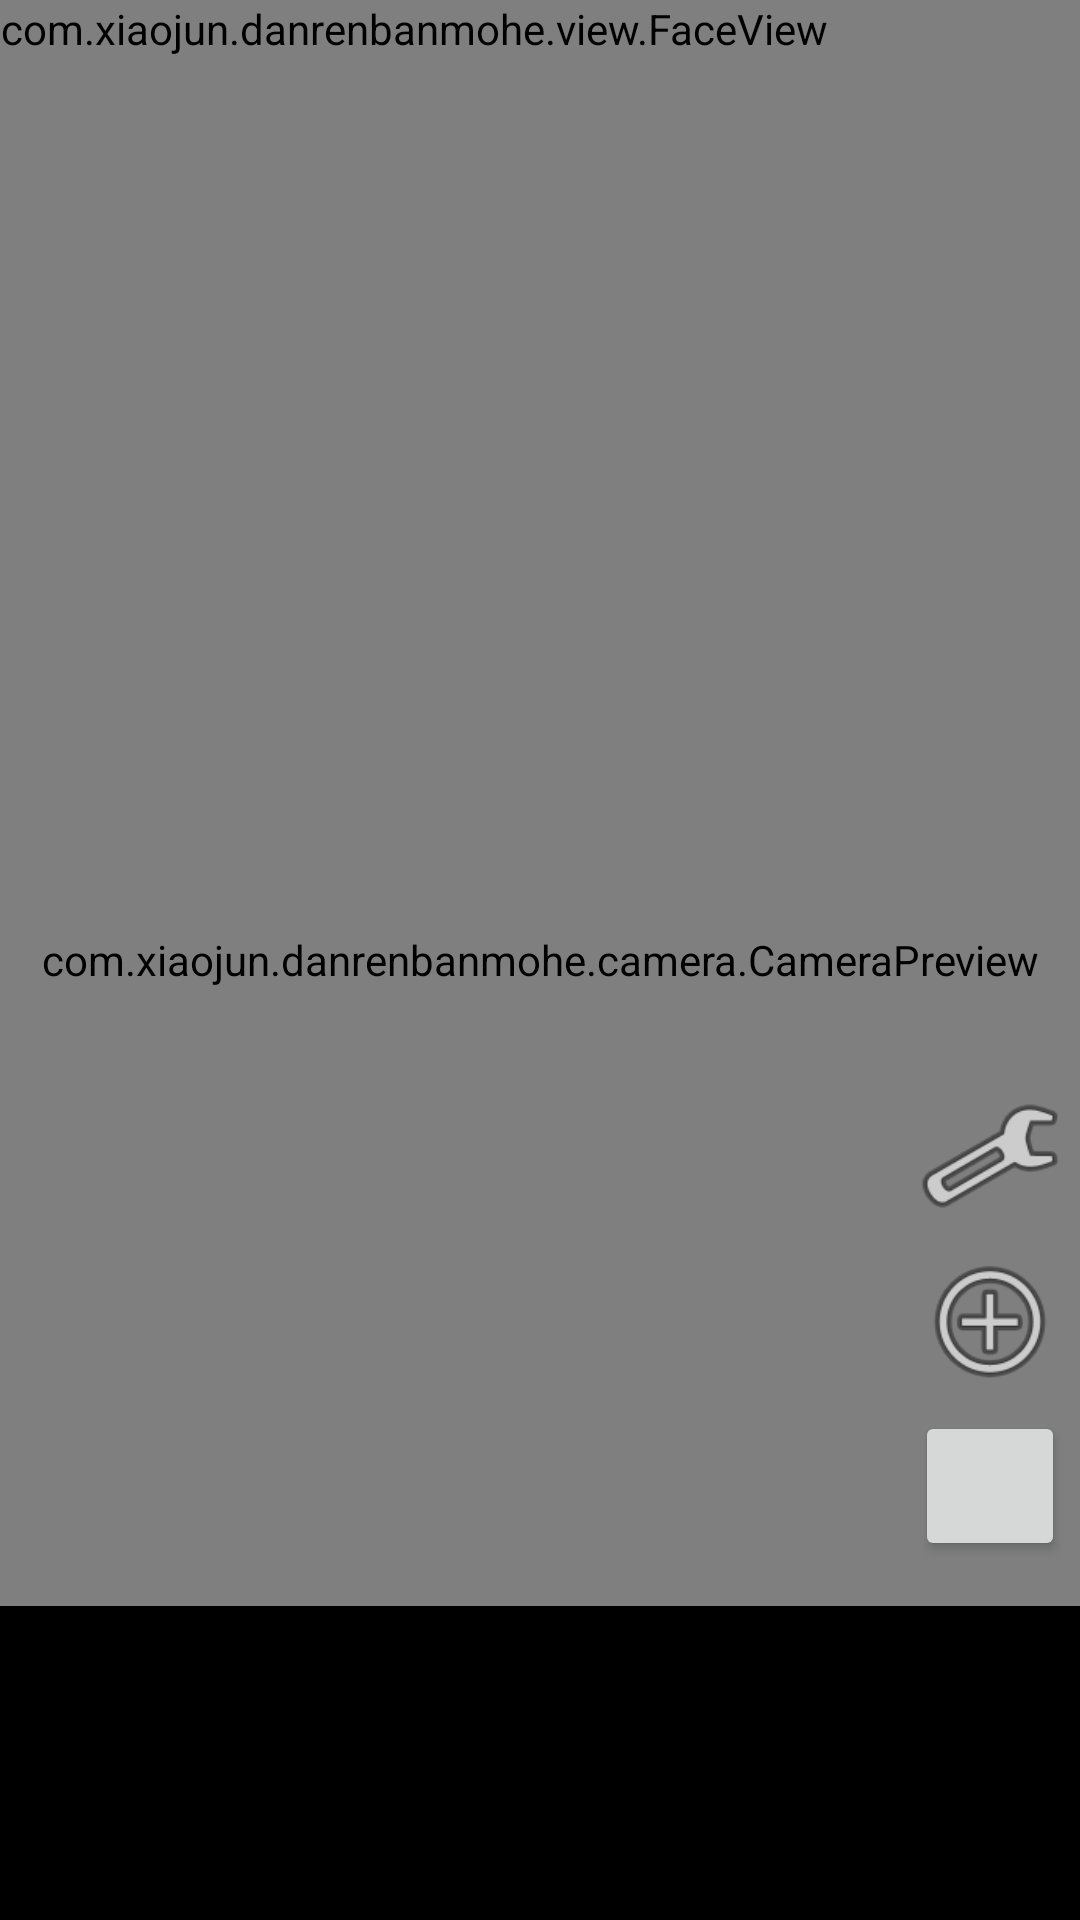

Locate icon controls on the screen. Image size 1080*1920, boxes as (x1=x1, y1=y1, x2=x2, y2=y2).
add: (x1=935, y1=1266, x2=1045, y2=1377)
manage: (x1=923, y1=1105, x2=1057, y2=1207)
